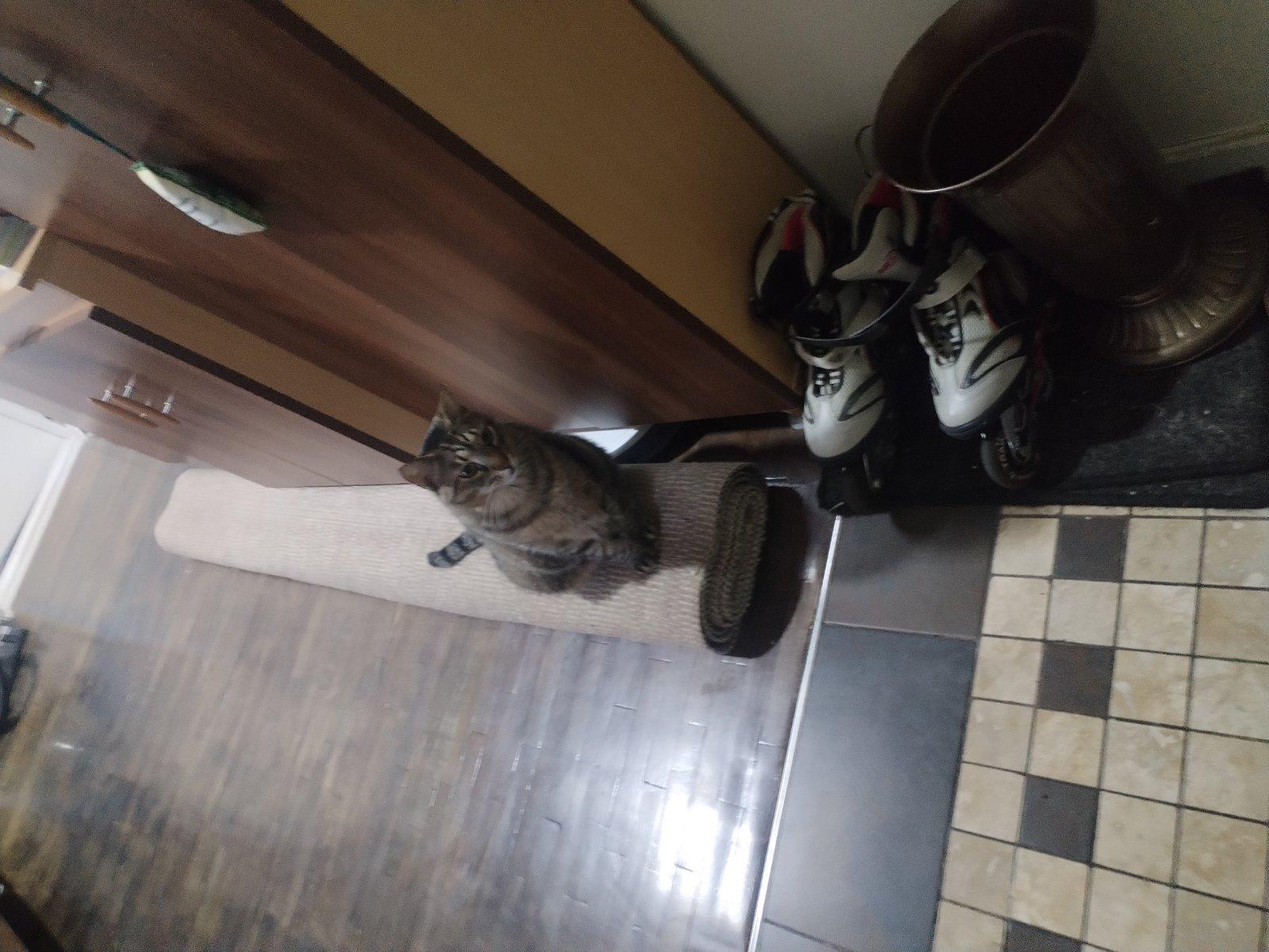macka: (398, 383, 663, 593)
